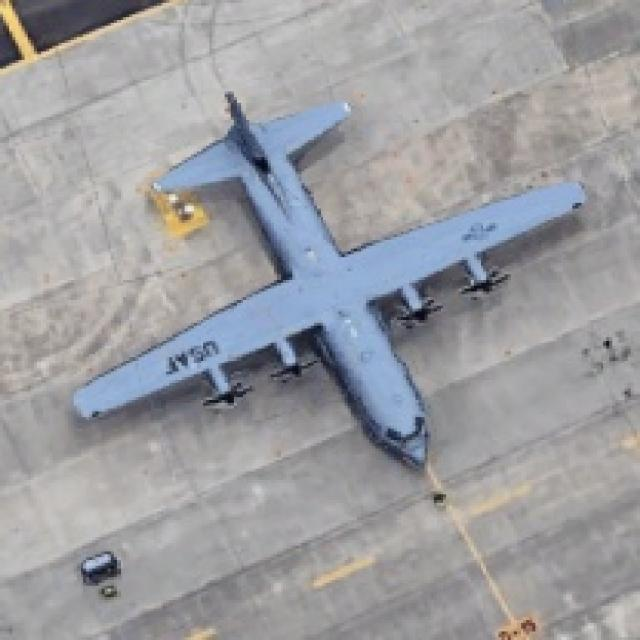C-130_TopDown: (66, 85, 590, 478)
